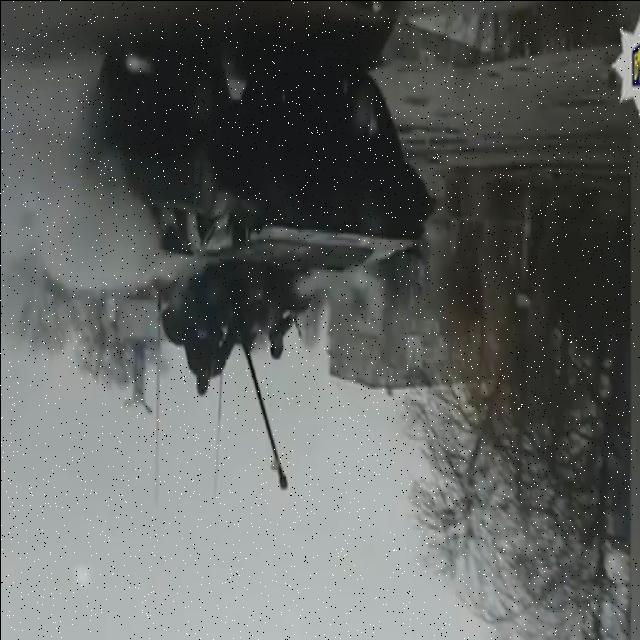APC-IFV: (72, 42, 430, 494)
